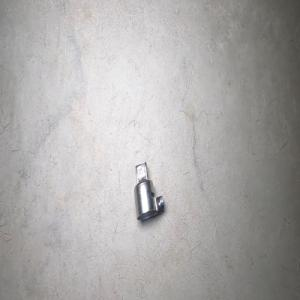MetalPart: (133, 161, 164, 221)
